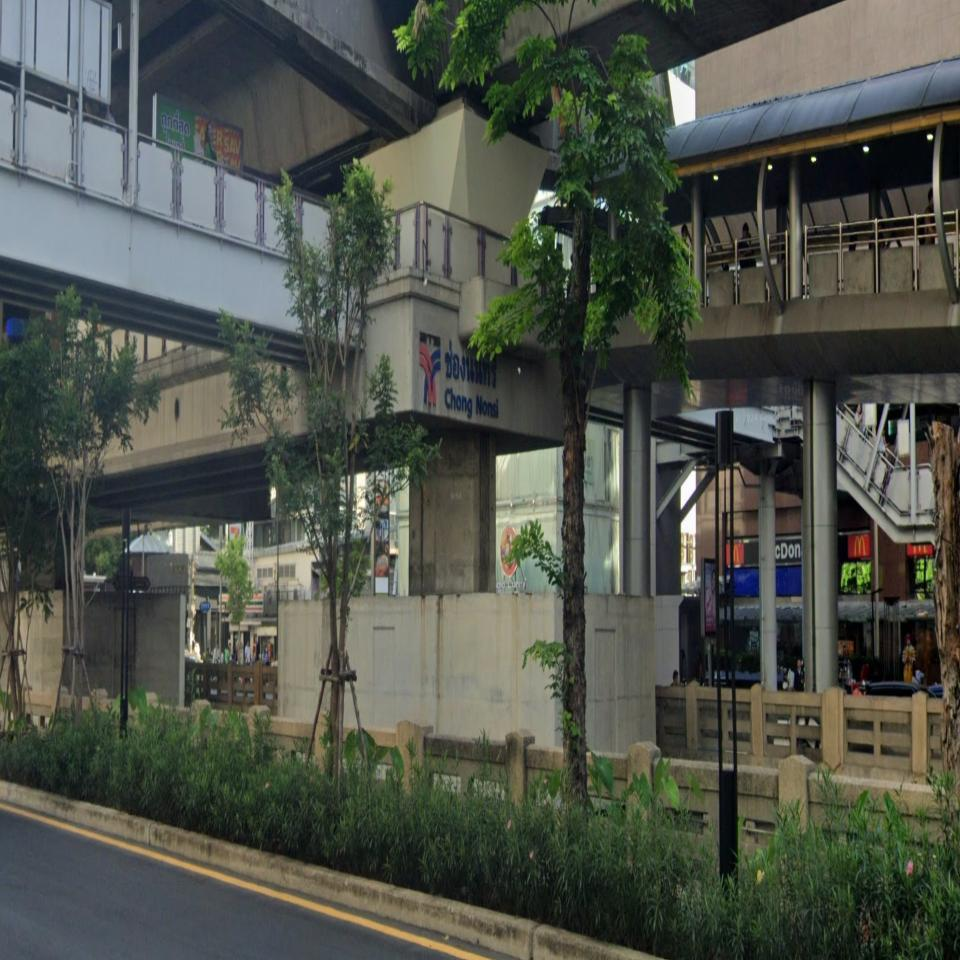Chong Nonsi: (418, 328, 500, 424), (444, 340, 500, 423)
